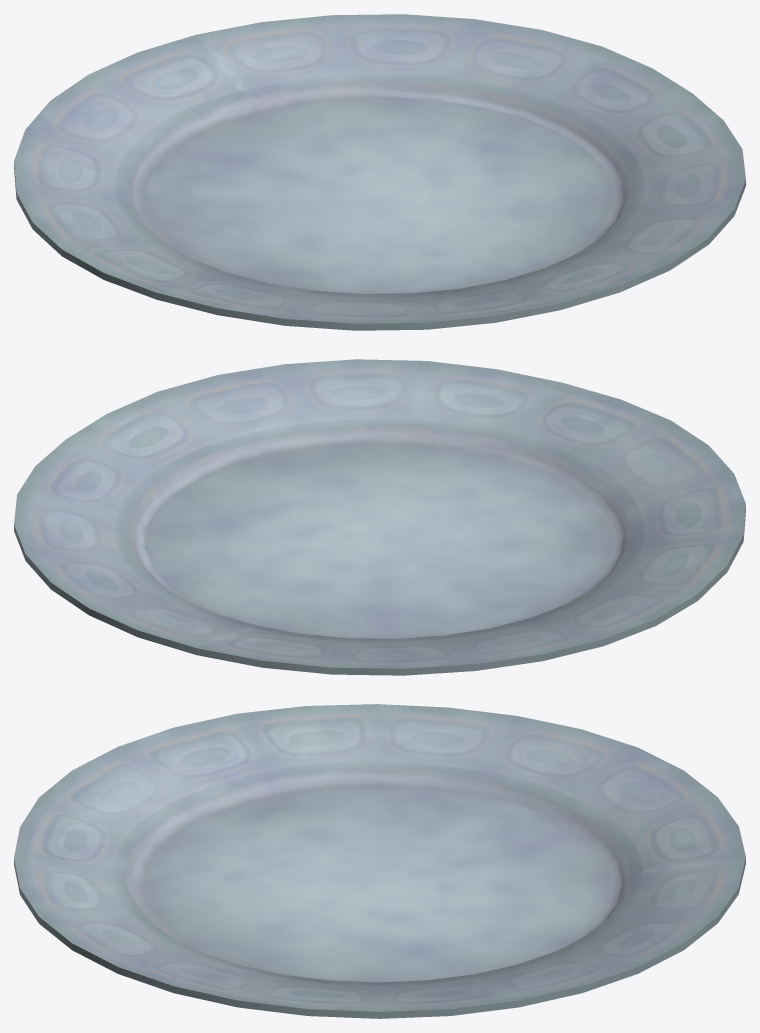
Rendered from Plate.fbx.
3 renders of one model, top to bottom at view 1: azimuth 30°, elevation 25°; view 2: azimuth 150°, elevation 25°; view 3: azimuth 270°, elevation 25°, orthographic.
Visible parts, largest first — view 1: Plate; view 2: Plate; view 3: Plate.
Part boxes in pixels (<box>): Plate: <box>14,14,745,330</box>; Plate: <box>14,359,745,675</box>; Plate: <box>14,704,745,1018</box>.
Size of the model in its own units: 25.73 by 25.7 by 2.
Materials: 1 (1 with a texture image).
